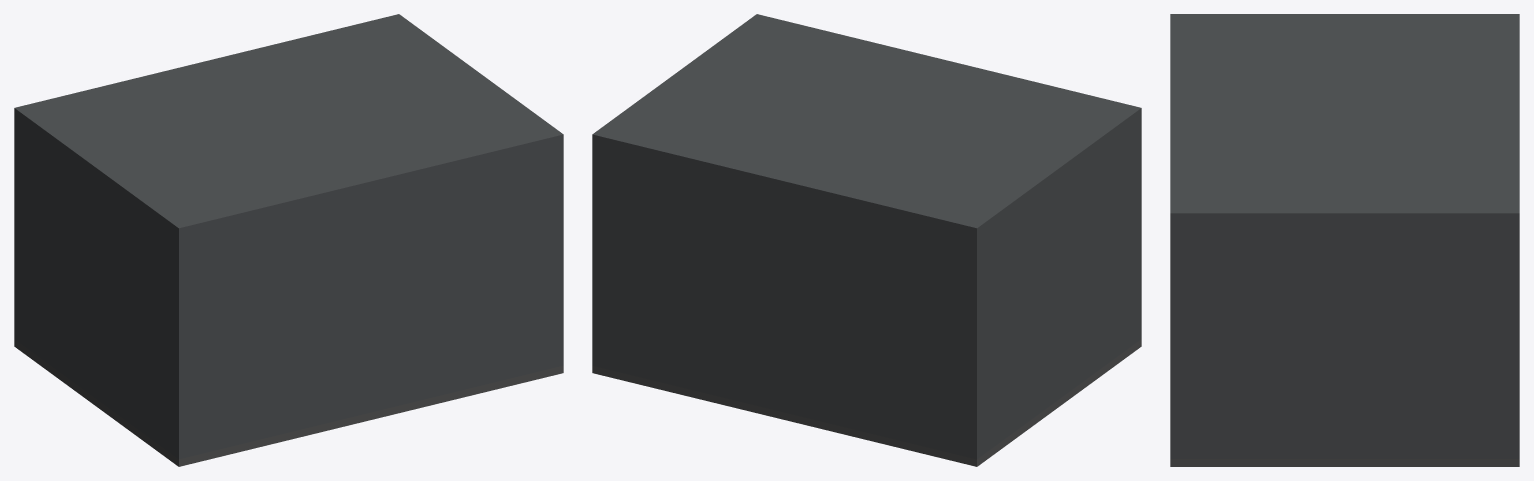
File: Roof_Support.obj
3 views of the same model, side by side, from view 1: azimuth 30°, elevation 25°; view 2: azimuth 150°, elevation 25°; view 3: azimuth 270°, elevation 25° (orthographic). The views are drawn at different scales.
Bounding box in the file's own units: 5.4 × 3.2 × 4.
1 material, 1 textured.
